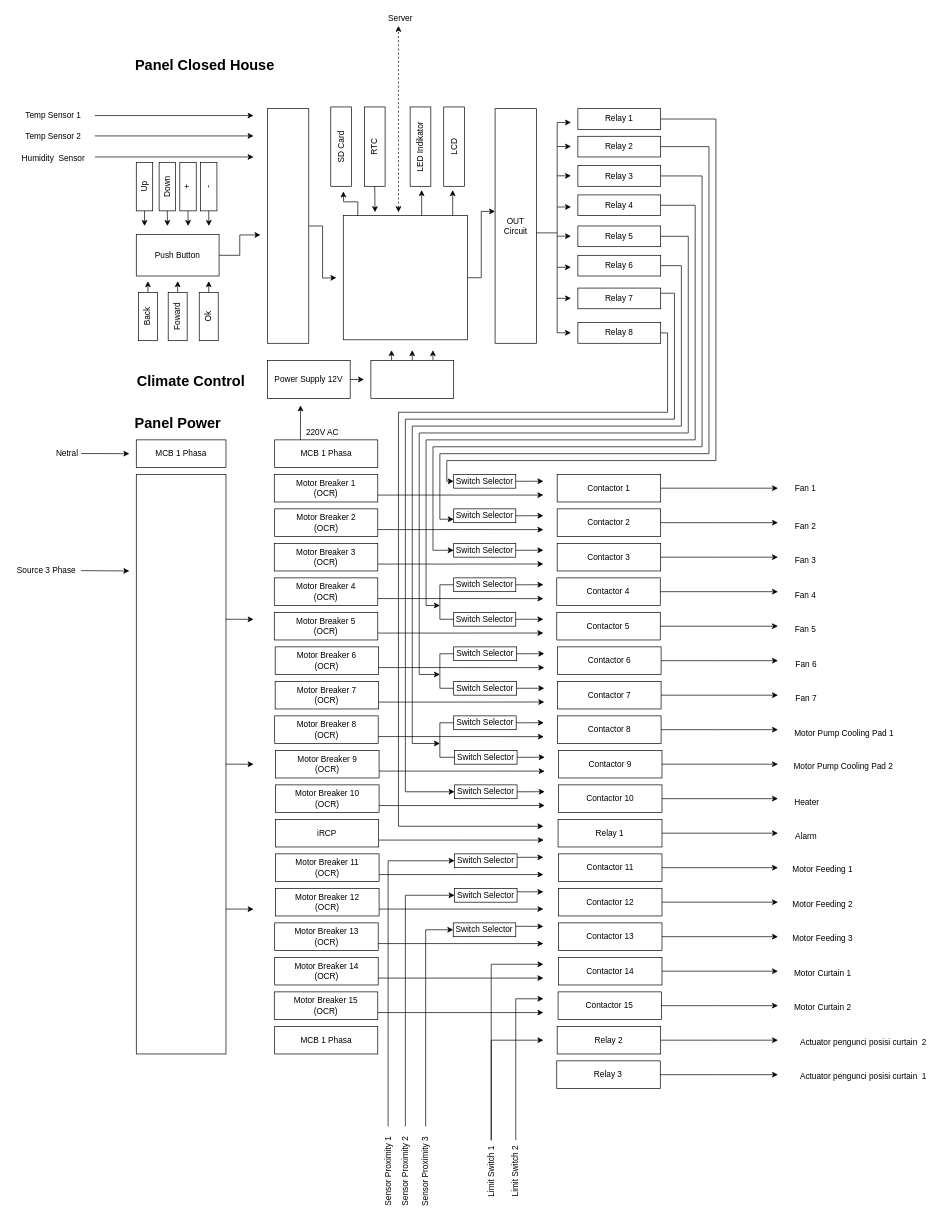
This 947x1228 diagram has some shape labels left out. The box of each missing label's shape, as (x1, y1, x2, y2) in pixels:
ESP32: (343, 215, 467, 340)
INPUT Circuit: (267, 108, 309, 343)
MCCB: (136, 474, 226, 1054)
Regulator 5V & 3V3: (370, 360, 454, 398)
